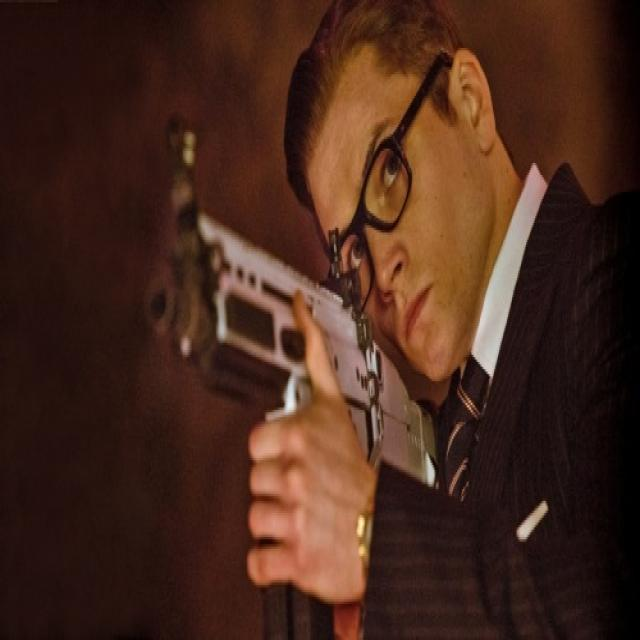rifle: (135, 112, 443, 640)
